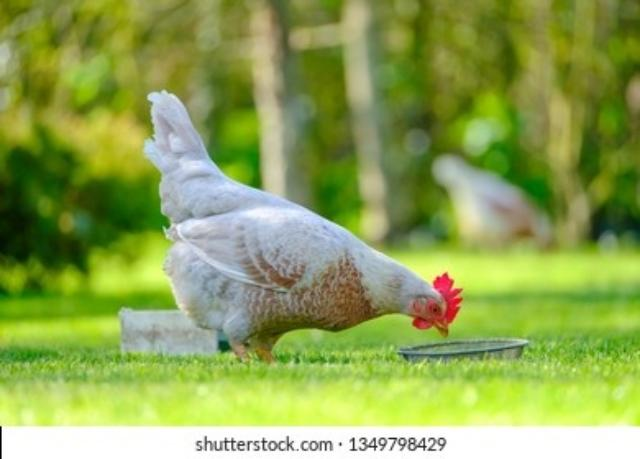Chicken: (143, 90, 463, 363)
